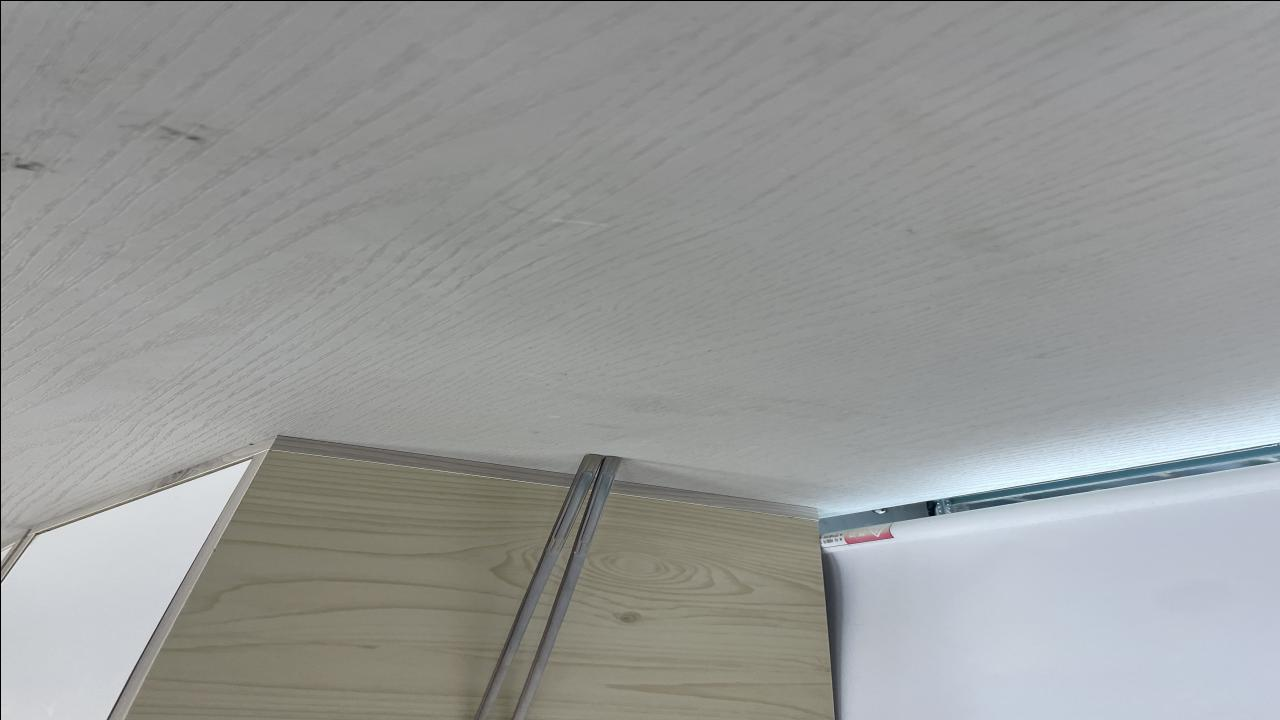chopstick: (480, 453, 622, 720)
